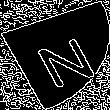N_NW: (18, 24, 92, 86)
